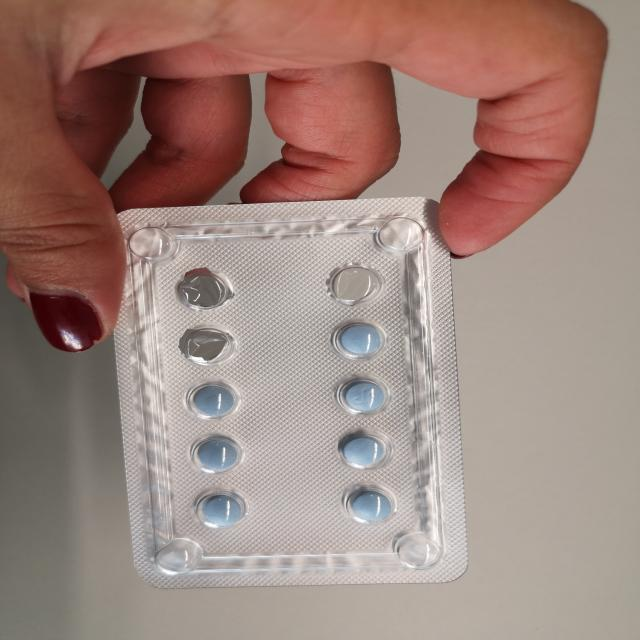Empty: (311, 254, 389, 310), (172, 320, 245, 369), (170, 265, 240, 314)
Pill: (178, 428, 259, 481), (178, 484, 267, 531), (321, 318, 399, 367), (328, 370, 398, 422), (179, 375, 249, 426), (336, 480, 404, 532), (328, 429, 397, 471)
